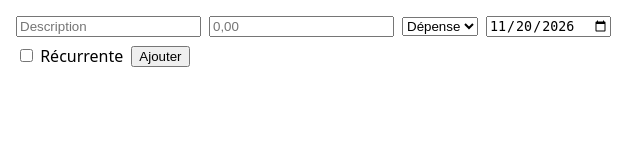
Scenario: TransactionForm › vide le formulaire apres l envoi
Type "Courses" into the field labelled "Description" at [108, 27], box 16,16 -> 201,37
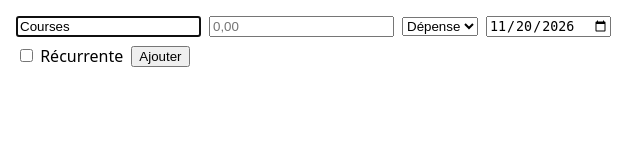
Type "12" into the field named "Montant" at [302, 27], box 209,16 -> 394,37
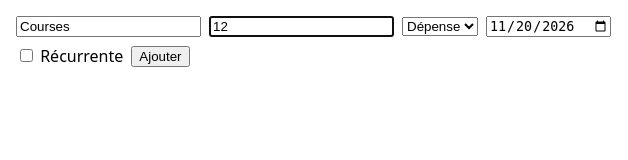
Click the button "Ajouter" at [160, 56], box 131,46 -> 190,67
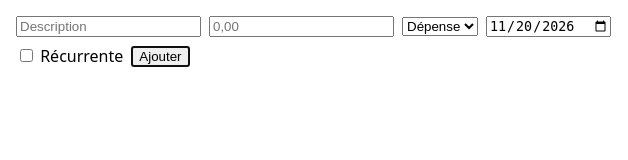
Expected: the field labelled "Description" is empty, 16,16 -> 201,37
Expected: the field named "Montant" is empty, 209,16 -> 394,37
